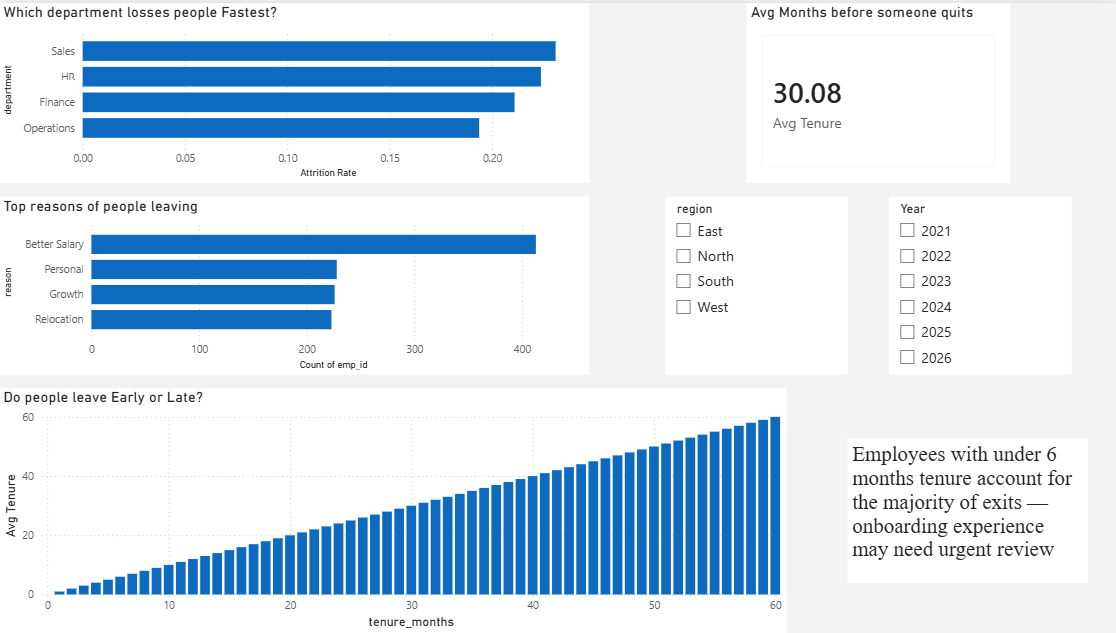

What the dashboard file says about the page in this screenshot:
{"tool":"powerbi","page":{"name":"Attrition","canvas":[1280,720],"ordinal":1},"visuals":[{"type":"clusteredBarChart","title":"Which department losses people Fastest?","fields":{"Category":["hr_analytics_db employees.department"],"Y":["hr_analytics_db employees.Attrition Rate"]},"box":[0,0,674.3,205.7],"z":0},{"type":"clusteredBarChart","title":"Top reasons of people leaving","fields":{"Category":["hr_analytics_db attrition.reason"],"Y":["CountNonNull(hr_analytics_db employees.emp_id)"]},"box":[0,221.4,674.3,202.9],"z":1000},{"type":"cardVisual","title":"Avg Months before someone quits","fields":{"Data":["hr_analytics_db employees.Avg Tenure"]},"box":[854.3,0,301.4,205.7],"z":2000},{"type":"clusteredColumnChart","title":"Do people leave Early or Late?","fields":{"Category":["hr_analytics_db attrition.tenure_months"],"Y":["hr_analytics_db employees.Avg Tenure"]},"box":[0,440,900,280],"z":3000},{"type":"slicer","fields":{"Values":["hr_analytics_db employees.region"]},"box":[761.4,221.4,208.6,202.9],"z":4000},{"type":"textbox","box":[970,497.1,274.3,165.7],"z":5000},{"type":"slicer","fields":{"Values":["hr_analytics_db attrition.Year"]},"box":[1017.1,221.4,208.6,202.9],"z":6000}]}

Visuals, with their boxes in screenshot pixels (x1, y1, x2, y2), scaled from the page's 1280x720 canvas onto the 1116x633 screenshot:
"Which department losses people Fastest?" clusteredBarChart: region(0, 0, 588, 181)
"Top reasons of people leaving" clusteredBarChart: region(0, 195, 588, 373)
"Avg Months before someone quits" cardVisual: region(745, 0, 1008, 181)
"Do people leave Early or Late?" clusteredColumnChart: region(0, 387, 785, 632)
slicer - hr_analytics_db employees.region: region(664, 195, 846, 373)
textbox: region(846, 437, 1085, 583)
slicer - hr_analytics_db attrition.Year: region(887, 195, 1069, 373)
